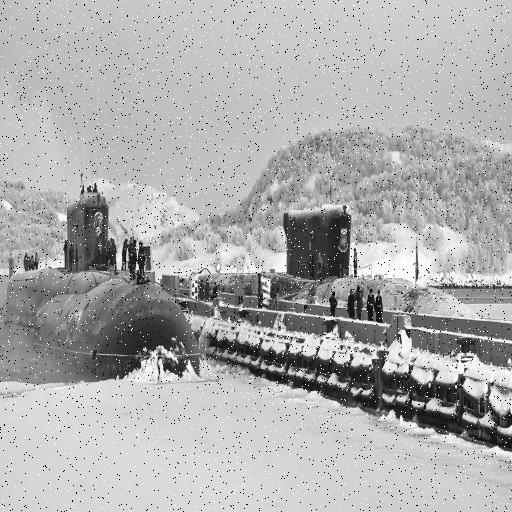submarine: (1, 148, 219, 388)
